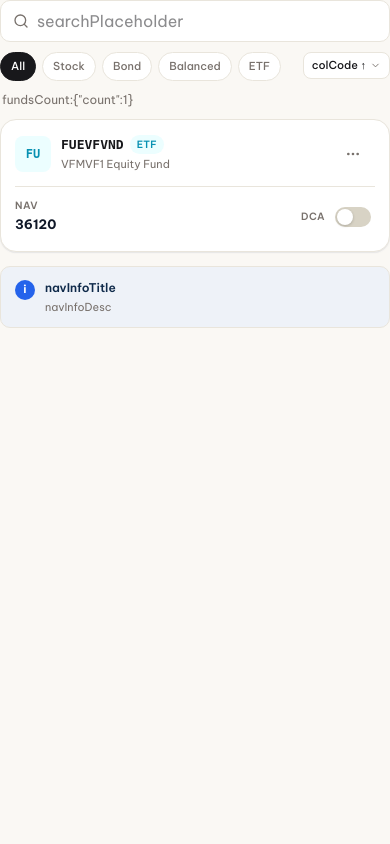
MobileFundLibraryView — ETFs › asks for a market price when editing an ETF
Click the button named "fundActions": (353, 154) [331, 132, 375, 176]
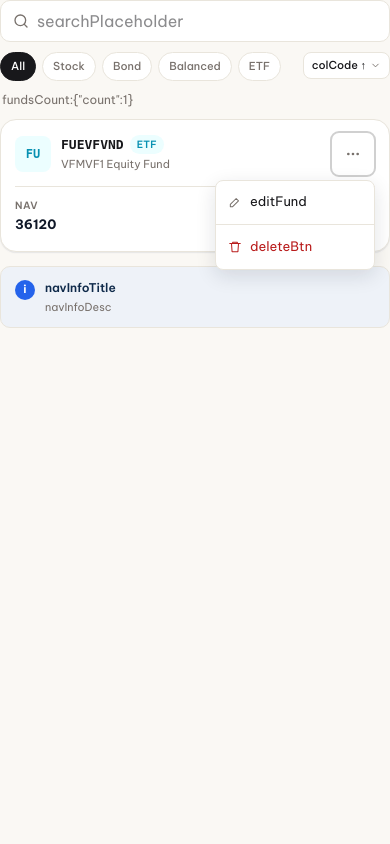
Click the menu item "editFund": (295, 202) [216, 180, 374, 224]
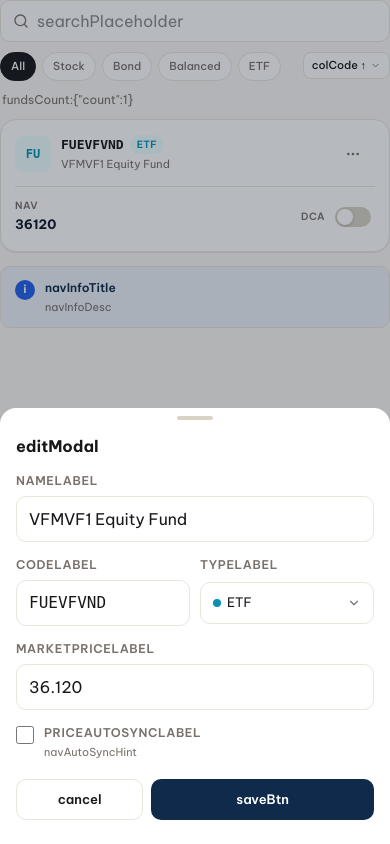
Result: the text "marketPriceLabel" is shown at [16, 641, 155, 656]
Result: the text "priceAutoSyncLabel" is shown at [44, 724, 201, 742]
